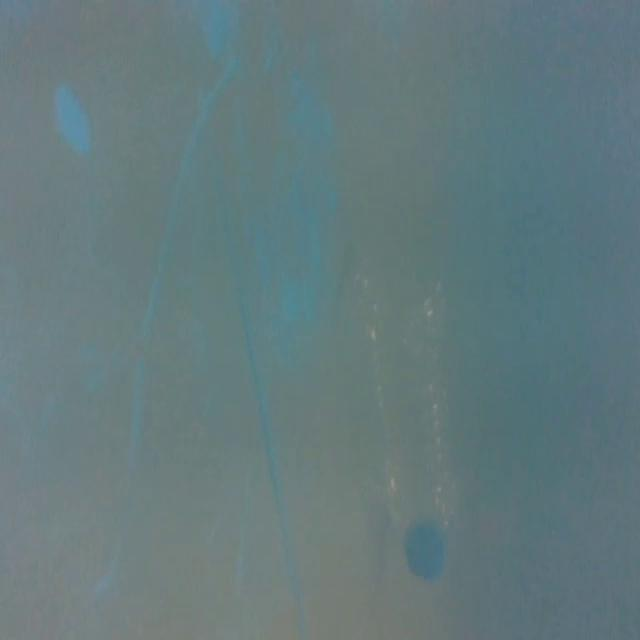plastic bottle: (354, 255, 468, 589)
